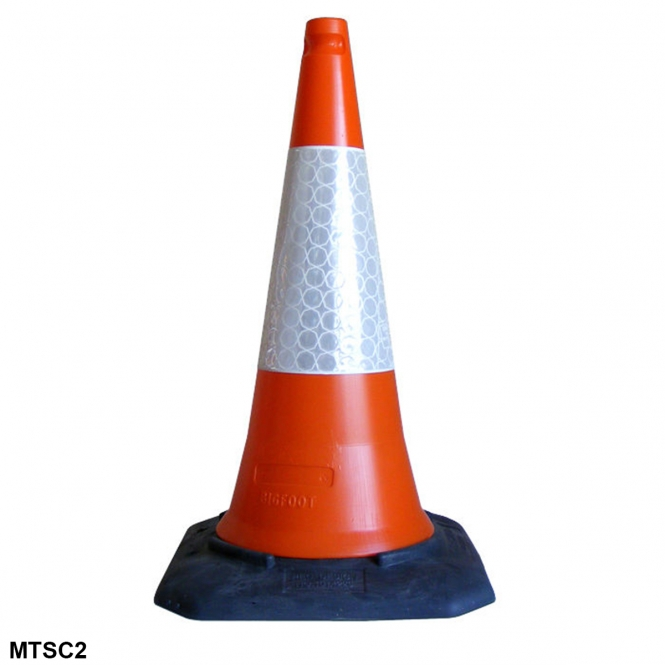cones: (168, 15, 500, 625)
